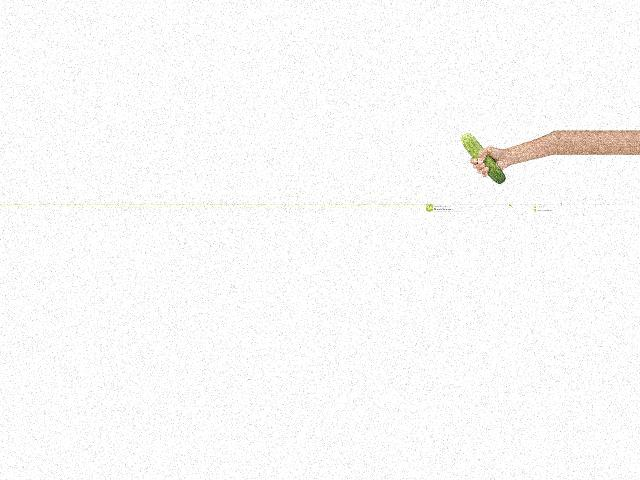cucumber: (461, 133, 507, 184)
